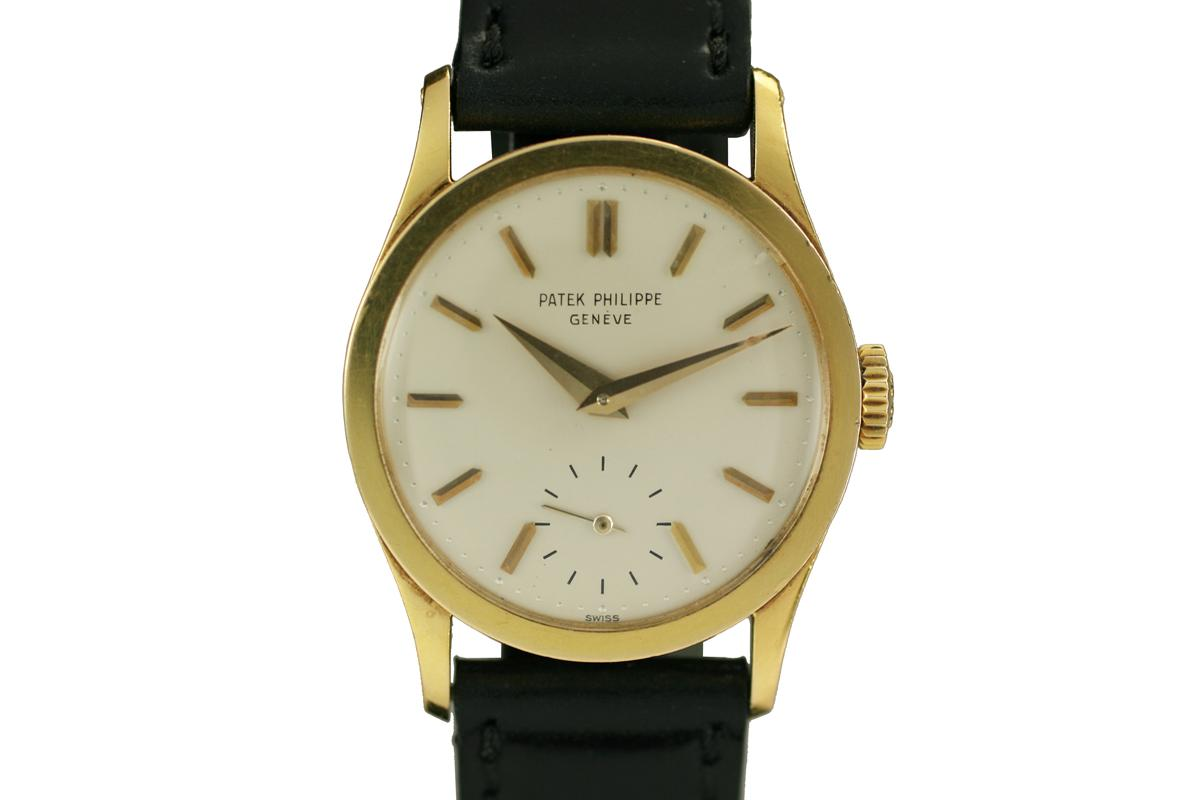clock: (377, 167, 832, 631)
